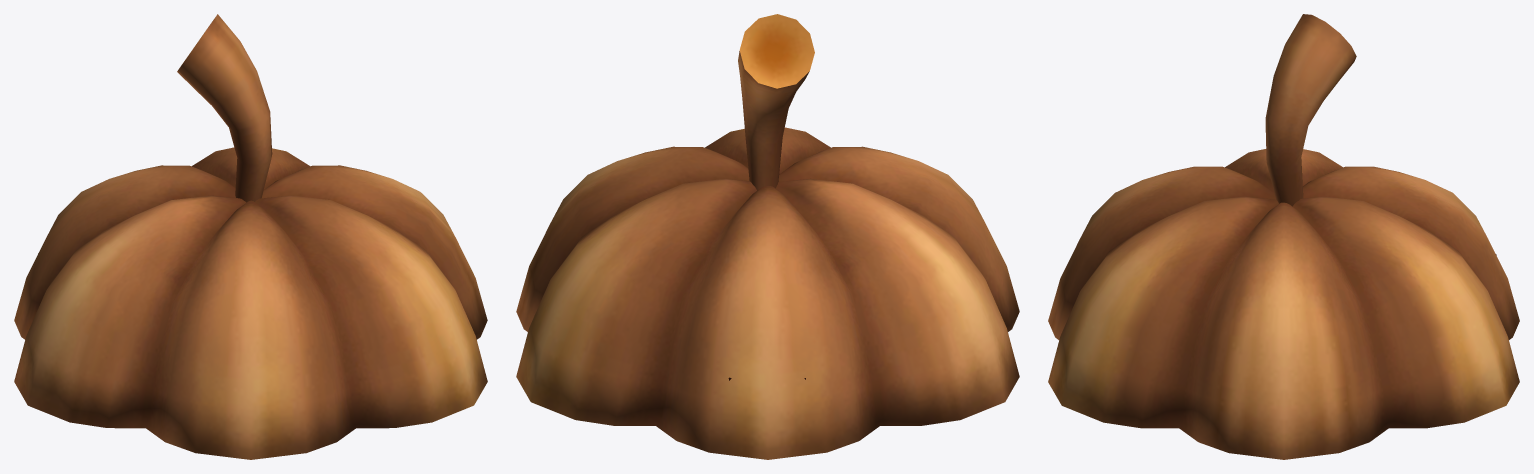
The model's file is panal.obj.
The picture shows the model from 3 angles, left to right: view 1: azimuth 30°, elevation 25°; view 2: azimuth 150°, elevation 25°; view 3: azimuth 270°, elevation 25°; orthographic projection. The views are drawn at different scales.
Parts seen in each view (by area): view 1: honeycomb_low__MI_honeycomb, hull_low__MI_honeycomb; view 2: honeycomb_low__MI_honeycomb, hull_low__MI_honeycomb; view 3: honeycomb_low__MI_honeycomb, hull_low__MI_honeycomb.
Boxes of the visible parts, <box> form: honeycomb_low__MI_honeycomb: <box>14,147,487,459</box>; hull_low__MI_honeycomb: <box>177,14,272,202</box>; honeycomb_low__MI_honeycomb: <box>516,127,1019,459</box>; hull_low__MI_honeycomb: <box>738,14,814,190</box>; honeycomb_low__MI_honeycomb: <box>1048,149,1519,459</box>; hull_low__MI_honeycomb: <box>1265,14,1356,206</box>.
Bounding box in the file's own units: 0.7398 × 0.5173 × 0.6799.
